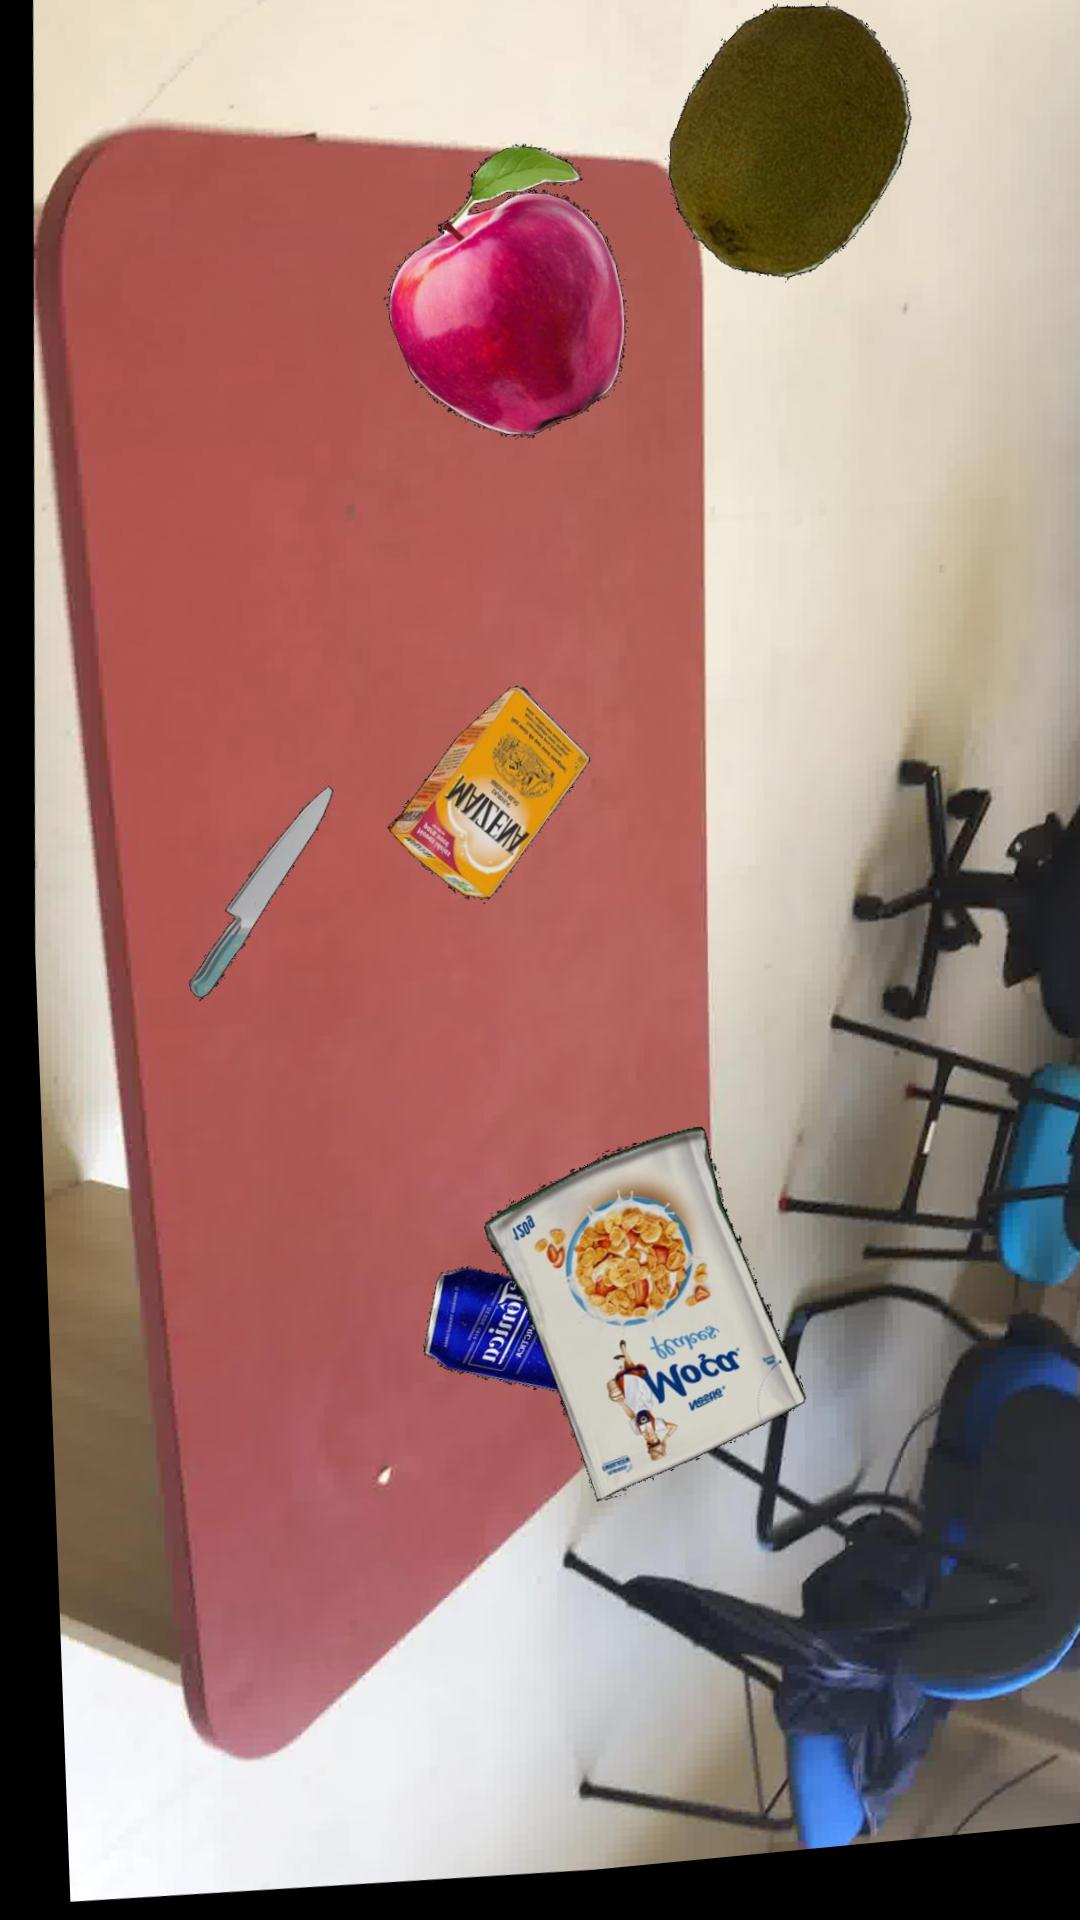apple: (384, 153, 621, 446)
corn flakes: (472, 1139, 793, 1511)
kiwi: (666, 21, 909, 294)
knife: (179, 790, 326, 1001)
tonic: (411, 1274, 545, 1400)
